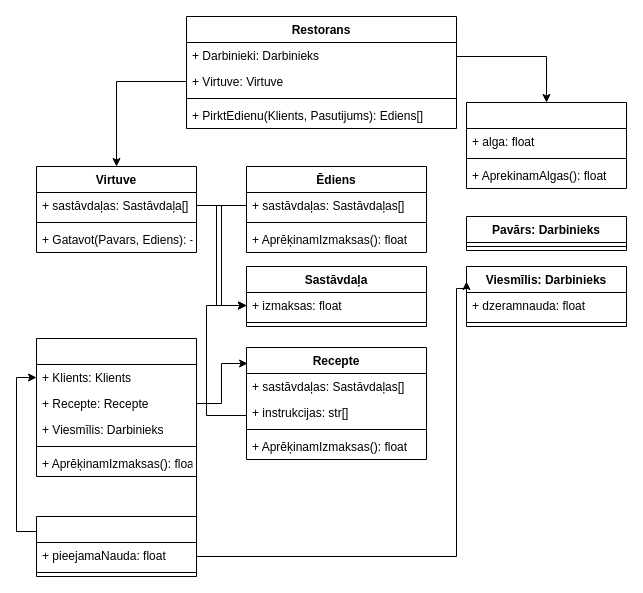
Some shapes in this 643 by 593 pixel diagram are drawn without their labels. Each missing label, with the box of its shape:
Darbinieks: (466, 102, 626, 188)
Klients: (36, 516, 196, 576)
Pasūtījums: (36, 338, 196, 476)
